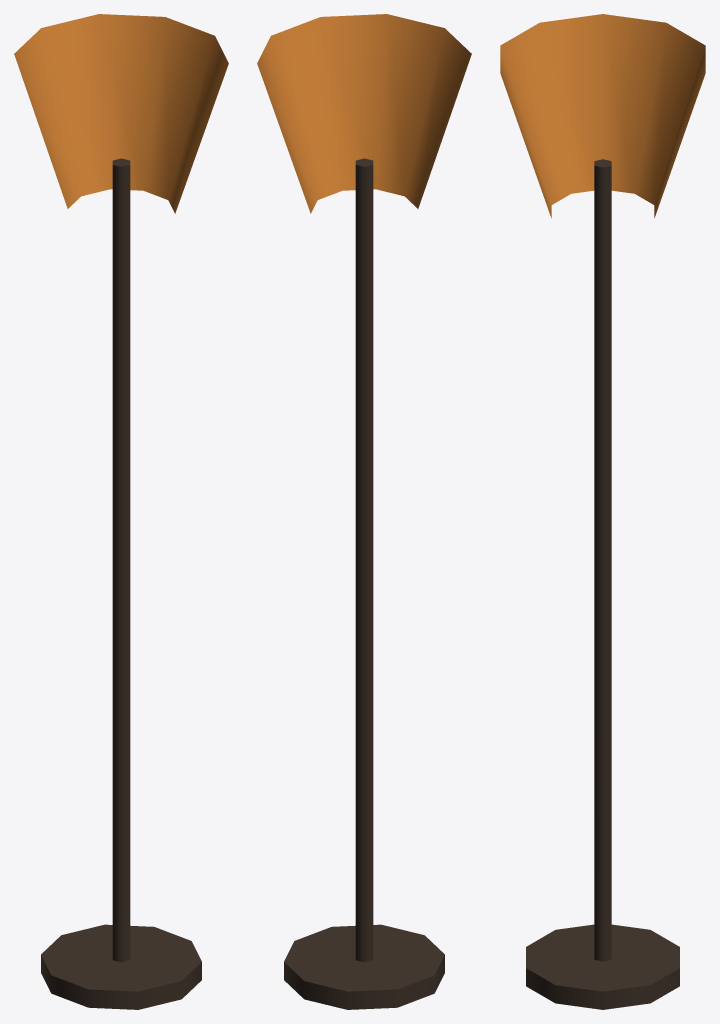
File: living_floor_lamp.glb
3 renders of one model, left to right at view 1: azimuth 30°, elevation 25°; view 2: azimuth 150°, elevation 25°; view 3: azimuth 270°, elevation 25°, orthographic.
Visible parts, largest first — view 1: sw5e_int_living_floor_lamp; view 2: sw5e_int_living_floor_lamp; view 3: sw5e_int_living_floor_lamp.
Part boxes in pixels (x1=…): sw5e_int_living_floor_lamp: x1=14, y1=14, x2=228, y2=1009; sw5e_int_living_floor_lamp: x1=257, y1=14, x2=471, y2=1009; sw5e_int_living_floor_lamp: x1=500, y1=14, x2=705, y2=1009.
Bounding box in the file's own units: 0.32 × 1.5 × 0.3043.
